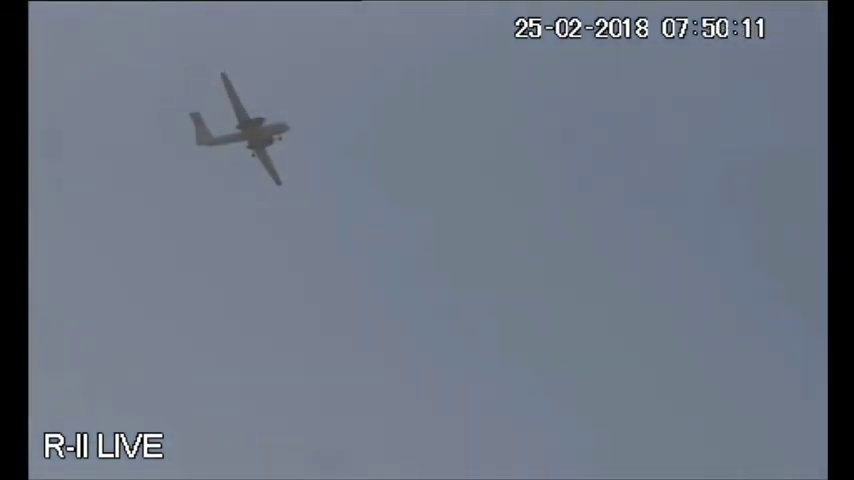military drone: (188, 71, 291, 187)
